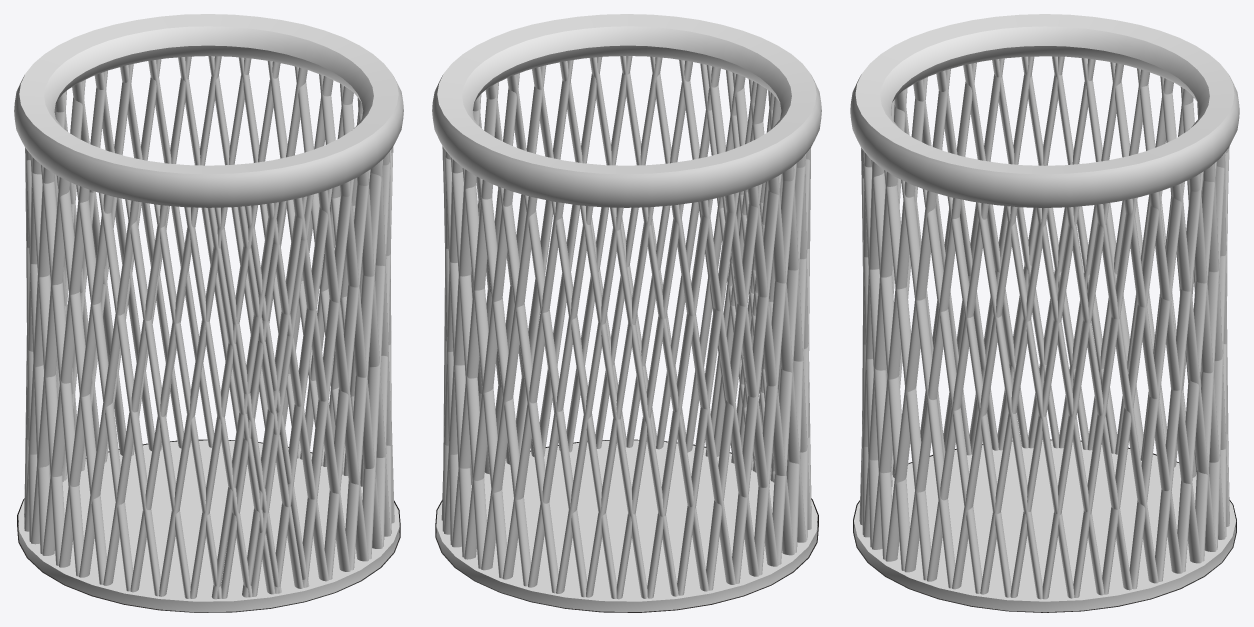
File: pencilcup.fbx
3 renders of one model, left to right at view 1: azimuth 30°, elevation 25°; view 2: azimuth 150°, elevation 25°; view 3: azimuth 270°, elevation 25°, orthographic.
Parts seen in each view (by area): view 1: pencil_cup; view 2: pencil_cup; view 3: pencil_cup.
Part boxes in pixels (x1=…): pencil_cup: x1=14, y1=14, x2=403, y2=612; pencil_cup: x1=432, y1=14, x2=821, y2=612; pencil_cup: x1=850, y1=14, x2=1239, y2=612.
Size of the model in its own units: 2.03 by 2.51 by 2.03.
2 materials, 1 textured.
